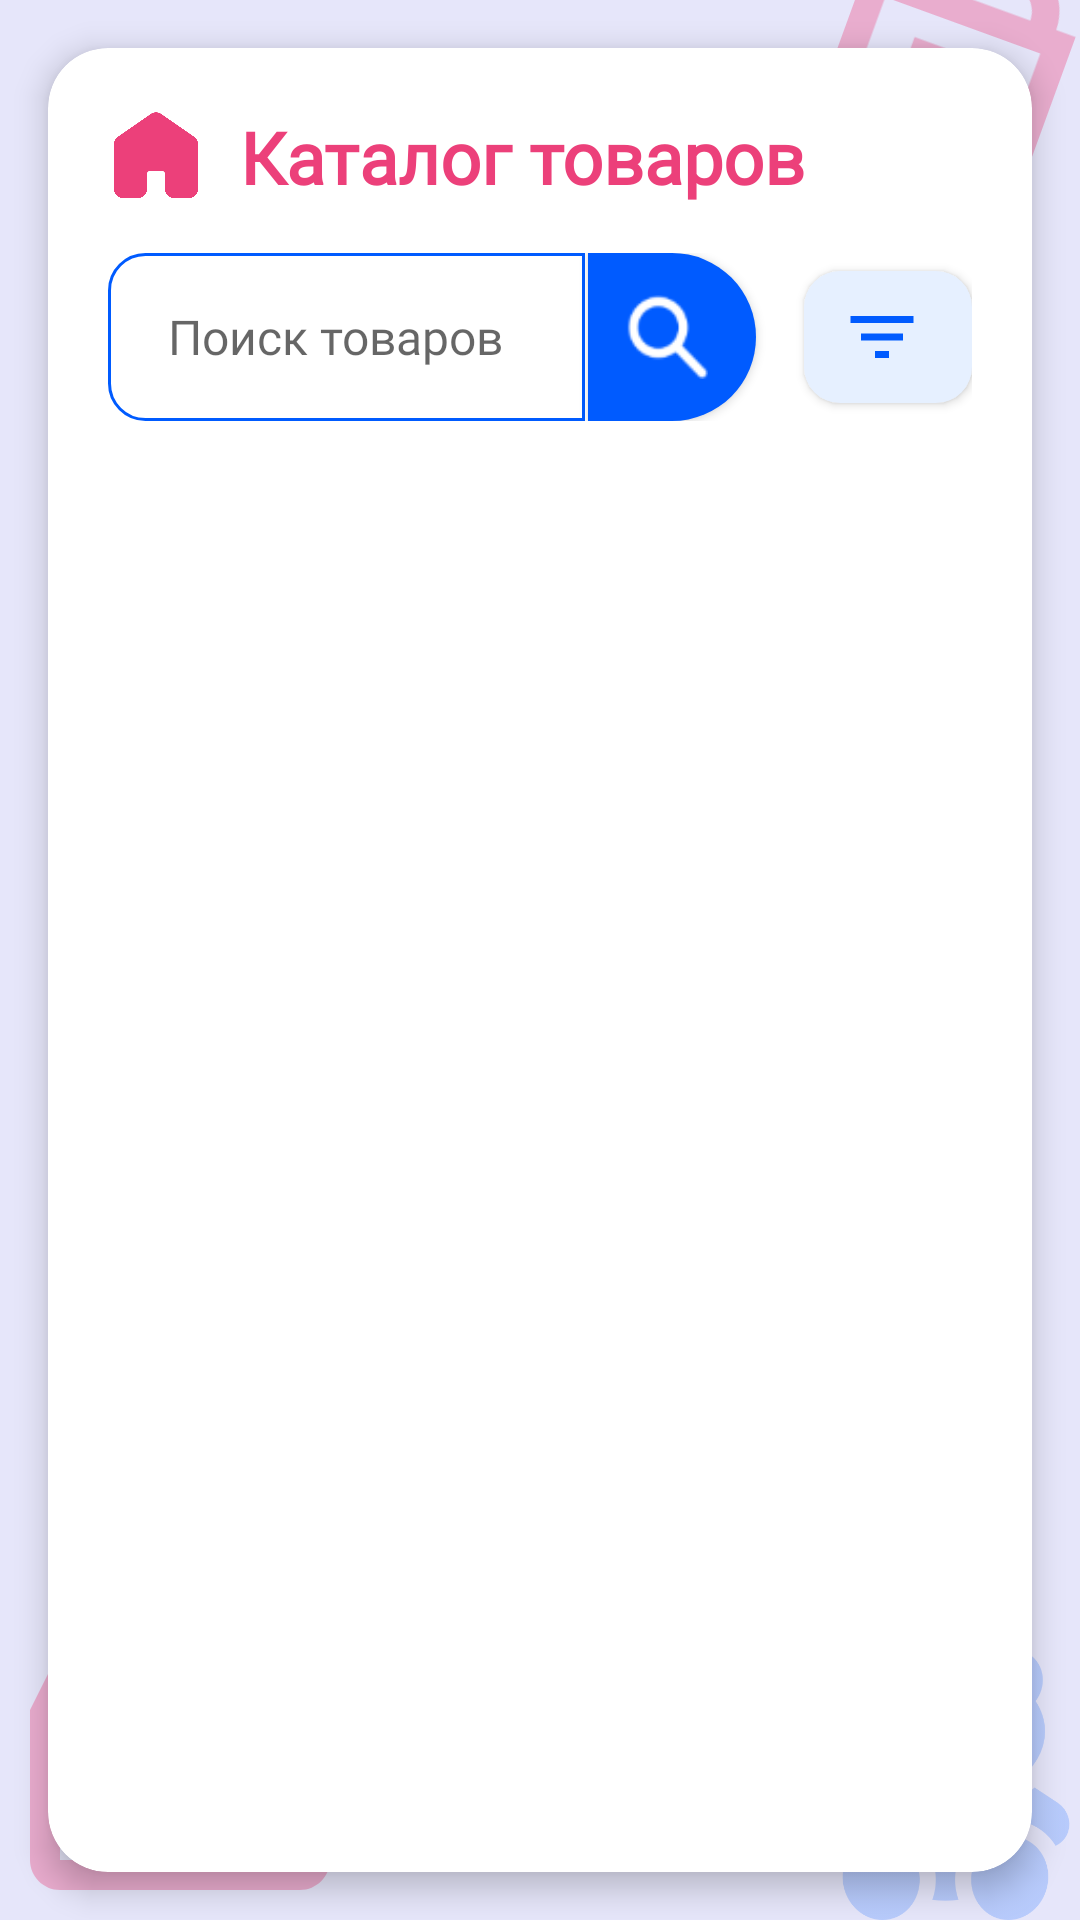

Icon bounding boxes for this 1080px×1920px phone screenshot, format bbox=[x1, y1, x2, y2]:
filter: bbox=[804, 271, 972, 404]
